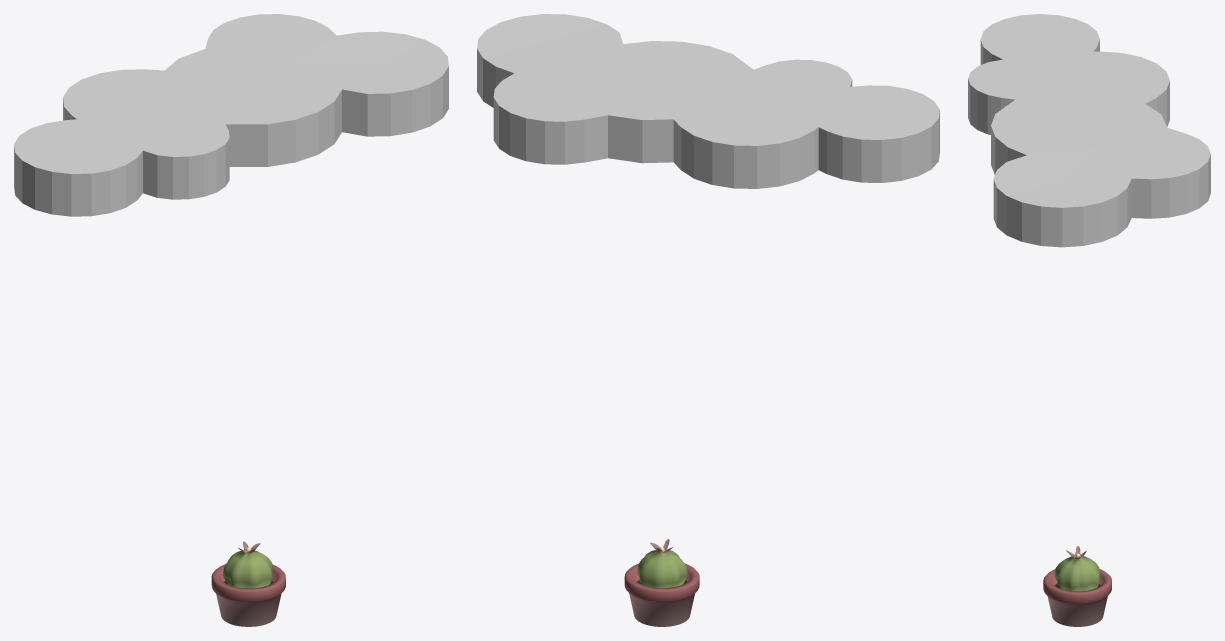
Rendered from MOD_Cloud_V1.fbx.
3 views of the same model, side by side, from view 1: azimuth 30°, elevation 25°; view 2: azimuth 150°, elevation 25°; view 3: azimuth 270°, elevation 25° (orthographic). The views are drawn at different scales.
Parts seen in each view (by area): view 1: Cylinder.005, Cylinder; view 2: Cylinder.005, Cylinder; view 3: Cylinder.005, Cylinder.
Part boxes in pixels (left/top/right/bottom): Cylinder.005: left=14, top=14, right=448, bottom=216; Cylinder: left=211, top=541, right=285, bottom=626; Cylinder.005: left=477, top=14, right=939, bottom=188; Cylinder: left=624, top=539, right=699, bottom=626; Cylinder.005: left=968, top=14, right=1210, bottom=247; Cylinder: left=1043, top=546, right=1111, bottom=626.
Size of the model in its own units: 1052 by 1242 by 557.
